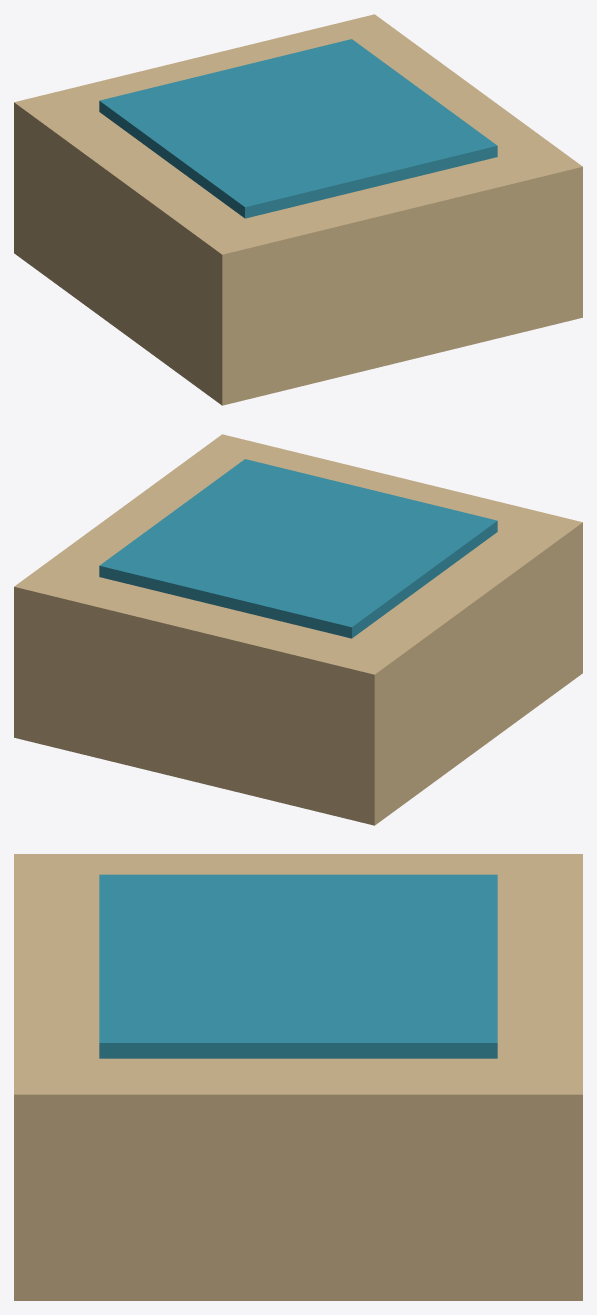
File: oasis-well.source.glb
3 renders of one model, top to bottom at view 1: azimuth 30°, elevation 25°; view 2: azimuth 150°, elevation 25°; view 3: azimuth 270°, elevation 25°, orthographic. The views are drawn at different scales.
Parts seen in each view (by area): view 1: oasis-well-ring-mesh, oasis-well-water-mesh; view 2: oasis-well-ring-mesh, oasis-well-water-mesh; view 3: oasis-well-ring-mesh, oasis-well-water-mesh.
Part boxes in pixels (x1,y1,x2,y2): oasis-well-ring-mesh: (14, 14, 582, 405); oasis-well-water-mesh: (99, 39, 497, 218); oasis-well-ring-mesh: (14, 434, 582, 825); oasis-well-water-mesh: (99, 459, 497, 638); oasis-well-ring-mesh: (14, 854, 582, 1300); oasis-well-water-mesh: (99, 874, 497, 1058).
Bounding box in the file's own units: 2 × 0.86 × 2.
